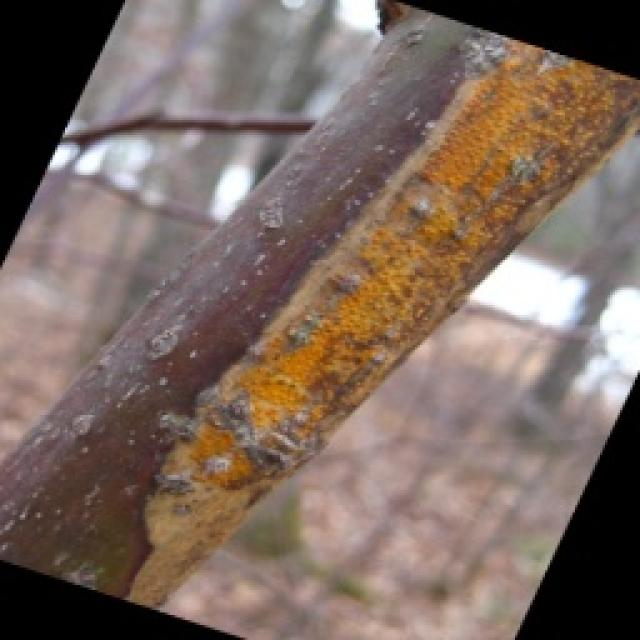Golden_canker: (26, 18, 627, 612)
